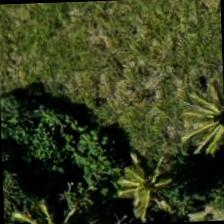Kelapa_Sawit: (95, 146, 189, 224)
